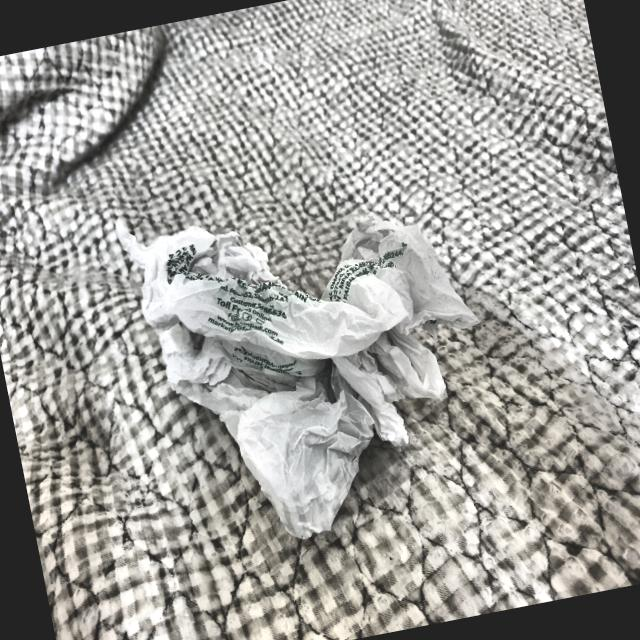plastic bag: (104, 151, 516, 570)
